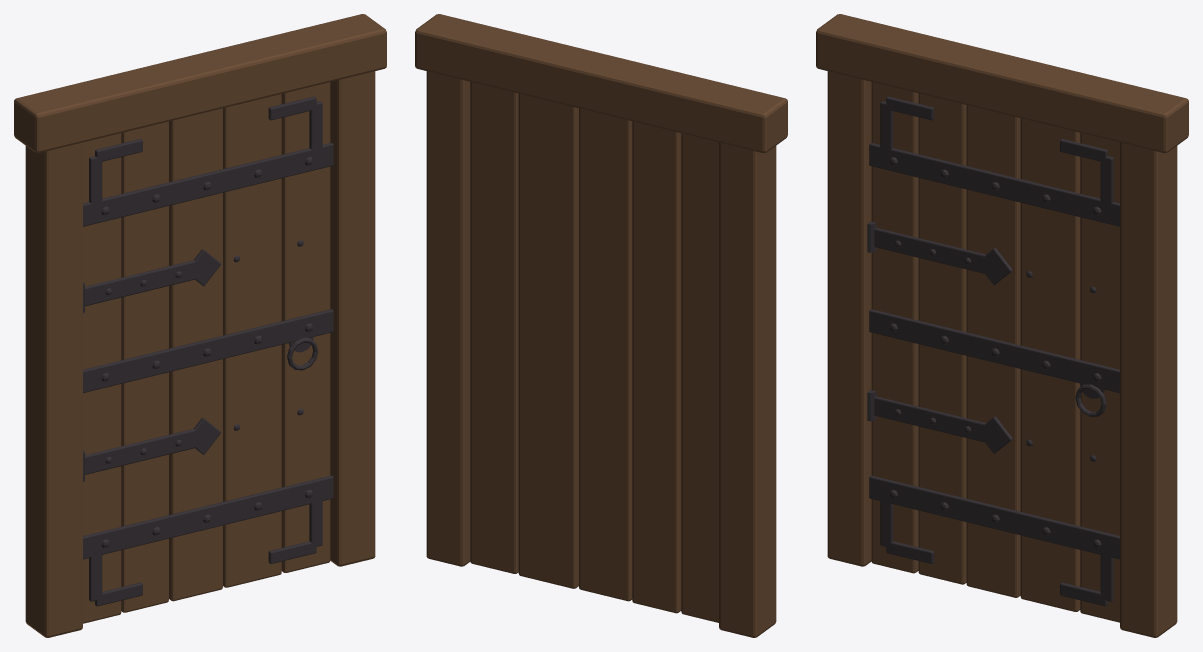
File: SM_Door_IronBanded_03.fbx
The picture shows the model from 3 angles, left to right: view 1: azimuth 30°, elevation 25°; view 2: azimuth 150°, elevation 25°; view 3: azimuth 330°, elevation 25°; orthographic projection.
Parts seen in each view (by area): view 1: SM_Door_IronBanded_03_Frame, SM_Door_IronBanded_03_Plank4, SM_Door_IronBanded_03_JambR, SM_Door_IronBanded_03_Lintel, SM_Door_IronBanded_03_Plank3, SM_Door_IronBanded_03_Plank5, SM_Door_IronBanded_03_Plank2, SM_Door_IronBanded_03_Plank1, SM_Door_IronBanded_03_Band1, SM_Door_IronBanded_03_Band2, SM_Door_IronBanded_03_Band3, SM_Door_IronBanded_03_Strap_1.48 (+11 smaller); view 2: SM_Door_IronBanded_03_Plank4, SM_Door_IronBanded_03_Frame, SM_Door_IronBanded_03_Plank3, SM_Door_IronBanded_03_Plank2, SM_Door_IronBanded_03_Plank5, SM_Door_IronBanded_03_JambR, SM_Door_IronBanded_03_Lintel, SM_Door_IronBanded_03_Plank1; view 3: SM_Door_IronBanded_03_JambR, SM_Door_IronBanded_03_Plank4, SM_Door_IronBanded_03_Frame, SM_Door_IronBanded_03_Lintel, SM_Door_IronBanded_03_Plank3, SM_Door_IronBanded_03_Plank2, SM_Door_IronBanded_03_Plank1, SM_Door_IronBanded_03_Plank5, SM_Door_IronBanded_03_Band1, SM_Door_IronBanded_03_Band2, SM_Door_IronBanded_03_Band3, SM_Door_IronBanded_03_Strap_0.72 (+11 smaller).
Boxes of the visible parts, x1=… form: SM_Door_IronBanded_03_Frame: x1=25, y1=88, x2=82, y2=637; SM_Door_IronBanded_03_Plank4: x1=223, y1=94, x2=281, y2=587; SM_Door_IronBanded_03_JambR: x1=321, y1=17, x2=375, y2=566; SM_Door_IronBanded_03_Lintel: x1=14, y1=14, x2=386, y2=153; SM_Door_IronBanded_03_Plank3: x1=169, y1=108, x2=222, y2=601; SM_Door_IronBanded_03_Plank5: x1=281, y1=82, x2=330, y2=572; SM_Door_IronBanded_03_Plank2: x1=121, y1=121, x2=168, y2=612; SM_Door_IronBanded_03_Plank1: x1=83, y1=133, x2=121, y2=623; SM_Door_IronBanded_03_Band1: x1=83, y1=475, x2=333, y2=559; SM_Door_IronBanded_03_Band2: x1=83, y1=309, x2=333, y2=392; SM_Door_IronBanded_03_Band3: x1=83, y1=143, x2=333, y2=226; SM_Door_IronBanded_03_Strap_1.48: x1=85, y1=260, x2=194, y2=306; SM_Door_IronBanded_03_Plank4: x1=518, y1=93, x2=578, y2=588; SM_Door_IronBanded_03_Frame: x1=719, y1=88, x2=776, y2=637; SM_Door_IronBanded_03_Plank3: x1=579, y1=108, x2=632, y2=601; SM_Door_IronBanded_03_Plank2: x1=632, y1=121, x2=681, y2=613; SM_Door_IronBanded_03_Plank5: x1=470, y1=82, x2=518, y2=573; SM_Door_IronBanded_03_JambR: x1=426, y1=17, x2=480, y2=566; SM_Door_IronBanded_03_Lintel: x1=415, y1=14, x2=787, y2=153; SM_Door_IronBanded_03_Plank1: x1=681, y1=133, x2=718, y2=622; SM_Door_IronBanded_03_JambR: x1=1120, y1=88, x2=1177, y2=637; SM_Door_IronBanded_03_Plank4: x1=1020, y1=118, x2=1080, y2=611; SM_Door_IronBanded_03_Frame: x1=827, y1=17, x2=881, y2=566; SM_Door_IronBanded_03_Lintel: x1=816, y1=14, x2=1188, y2=153; SM_Door_IronBanded_03_Plank3: x1=966, y1=105, x2=1020, y2=597; SM_Door_IronBanded_03_Plank2: x1=918, y1=93, x2=966, y2=584; SM_Door_IronBanded_03_Plank1: x1=871, y1=82, x2=918, y2=573; SM_Door_IronBanded_03_Plank5: x1=1080, y1=133, x2=1119, y2=622; SM_Door_IronBanded_03_Band1: x1=869, y1=475, x2=1119, y2=559; SM_Door_IronBanded_03_Band2: x1=869, y1=309, x2=1119, y2=392; SM_Door_IronBanded_03_Band3: x1=869, y1=143, x2=1119, y2=226; SM_Door_IronBanded_03_Strap_0.72: x1=874, y1=396, x2=985, y2=442.
Size of the model in its own units: 1.66 by 2.38 by 0.1944.
